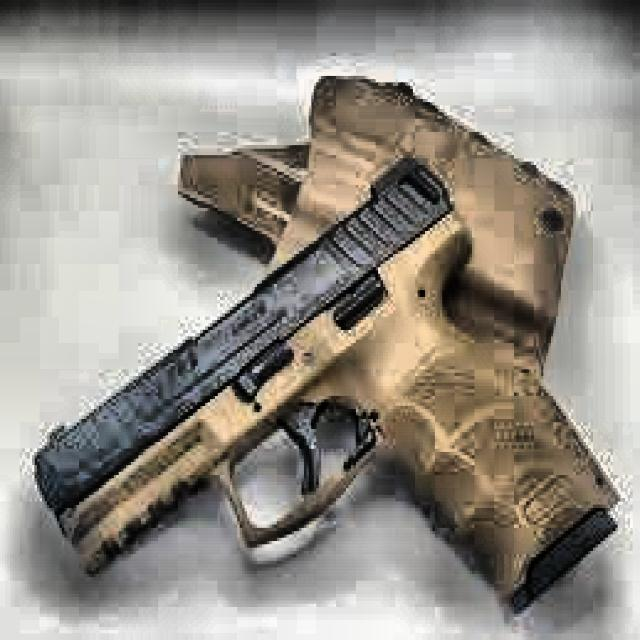HKVP9: (30, 69, 620, 614)
